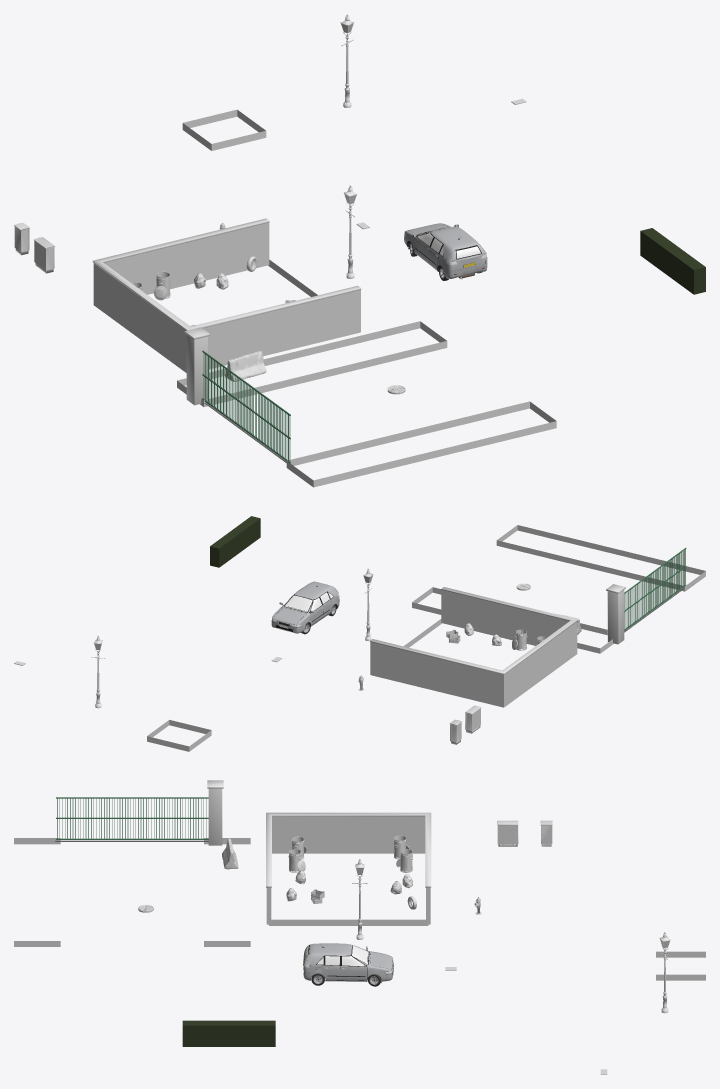
Rendered from cell_m2_0.lite.glb.
3 views of the same model, one above another, from view 1: azimuth 30°, elevation 25°; view 2: azimuth 150°, elevation 25°; view 3: azimuth 270°, elevation 25° (orthographic). The views are drawn at different scales.
Parts seen in each view (by area): view 1: cell_m2_0; view 2: cell_m2_0; view 3: cell_m2_0.
Part boxes in pixels (x1,y1,x2,y2): cell_m2_0: (14, 14, 705, 487); cell_m2_0: (14, 516, 705, 751); cell_m2_0: (14, 780, 705, 1074).
Size of the model in its own units: 24.61 by 4.14 by 30.4.
